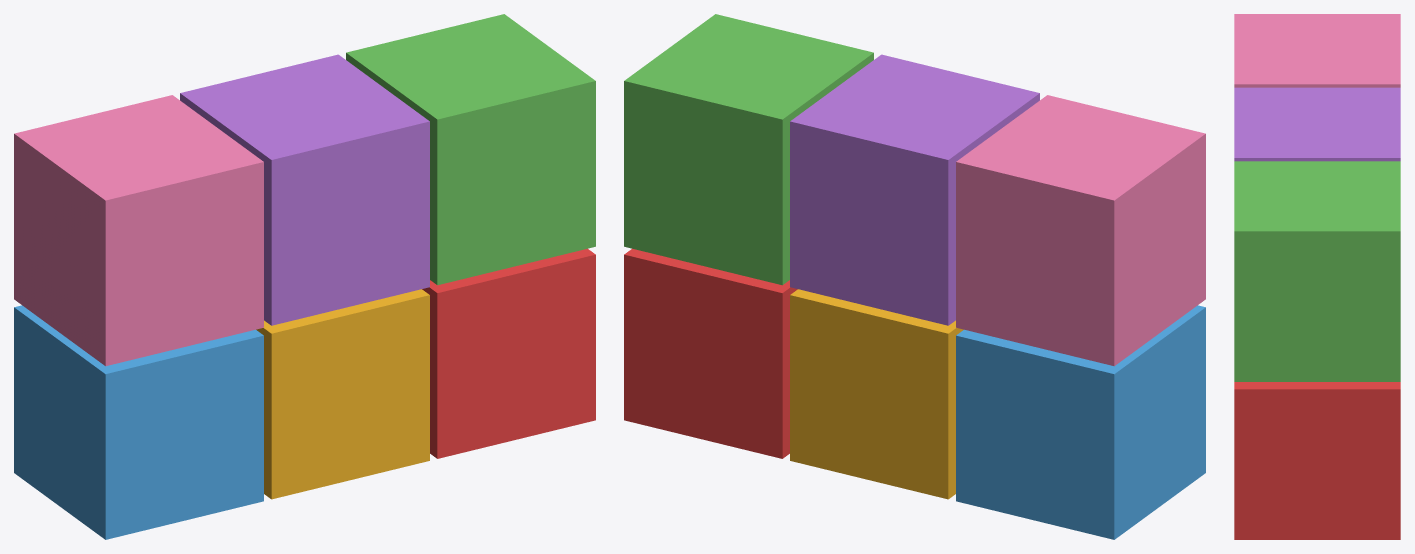
File: Blocks.fbx
The picture shows the model from 3 angles, left to right: view 1: azimuth 30°, elevation 25°; view 2: azimuth 150°, elevation 25°; view 3: azimuth 270°, elevation 25°; orthographic projection. The views are drawn at different scales.
Visible parts, largest first — view 1: Blocks; view 2: Blocks; view 3: Blocks.
Part boxes in pixels (x1,y1,x2,y2): Blocks: (14,14,595,539); Blocks: (624,14,1205,539); Blocks: (1234,14,1400,539).
Bounding box in the file's own units: 0.065 × 0.043 × 0.021.
